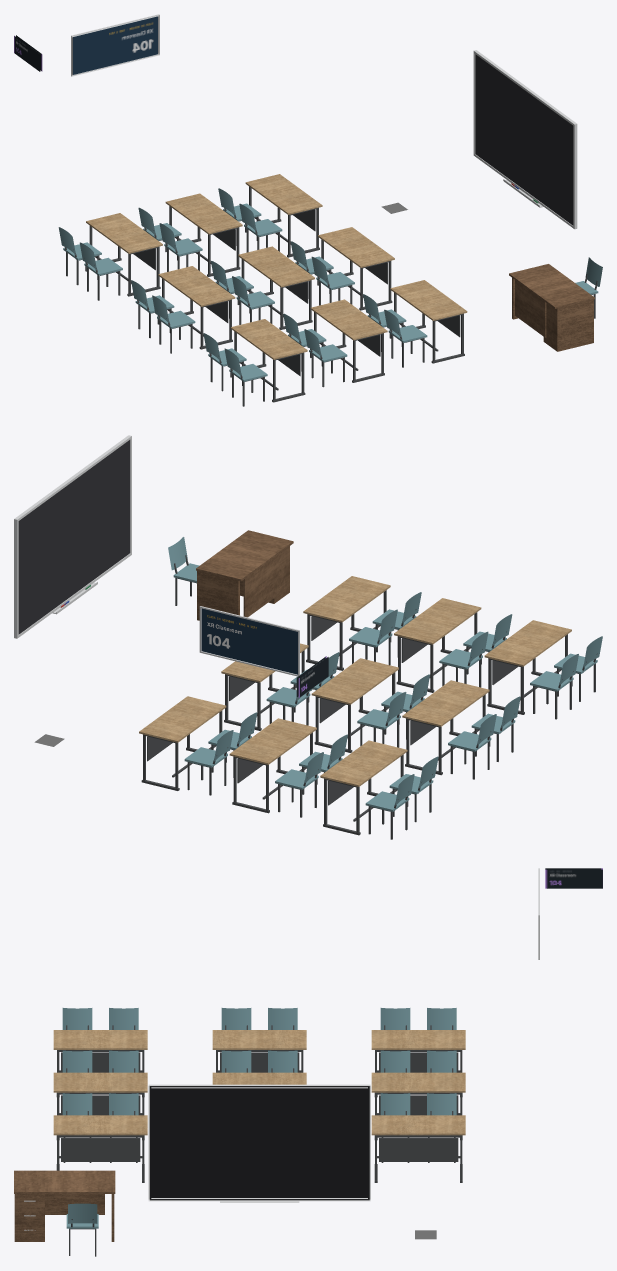
The model's file is Classroom.glb.
3 renders of one model, top to bottom at view 1: azimuth 30°, elevation 25°; view 2: azimuth 150°, elevation 25°; view 3: azimuth 270°, elevation 25°, orthographic. The views are drawn at different scales.
Parts seen in each view (by area): view 1: M_cls_oak, M_cls_steel, screen__classroom, M_cls_walnut, M_cls_shell, M_cls_sign, M_cls_alu, M_cls_blade; view 2: M_cls_oak, M_cls_steel, screen__classroom, M_cls_shell, M_cls_walnut, M_cls_sign, M_cls_alu, M_cls_blade; view 3: M_cls_black, M_cls_oak, M_cls_shell, M_cls_steel, M_cls_walnut, M_cls_alu, M_cls_blade.
Boxes of the visible parts, x1,y1,x2,y2 form: M_cls_oak: (86, 174, 467, 359); M_cls_steel: (63, 186, 597, 406); screen__classroom: (475, 54, 573, 225); M_cls_walnut: (509, 264, 594, 351); M_cls_shell: (58, 188, 602, 375); M_cls_sign: (73, 16, 157, 74); M_cls_alu: (71, 14, 577, 229); M_cls_blade: (14, 35, 42, 71); M_cls_oak: (139, 576, 571, 786); M_cls_steel: (141, 555, 597, 839); screen__classroom: (18, 440, 129, 634); M_cls_shell: (168, 537, 602, 805); M_cls_walnut: (196, 530, 293, 620); M_cls_sign: (201, 608, 297, 674); M_cls_alu: (14, 435, 299, 676); M_cls_blade: (296, 656, 328, 697); M_cls_black: (150, 1086, 369, 1200); M_cls_oak: (53, 1030, 465, 1135); M_cls_shell: (62, 1008, 456, 1228); M_cls_steel: (56, 1025, 462, 1256); M_cls_walnut: (14, 1170, 115, 1241); M_cls_alu: (24, 868, 539, 1230); M_cls_blade: (545, 868, 602, 888).
Bounding box in the file's own units: 6.65 × 3.38 × 8.15.
Materials: 13 (4 with a texture image).
